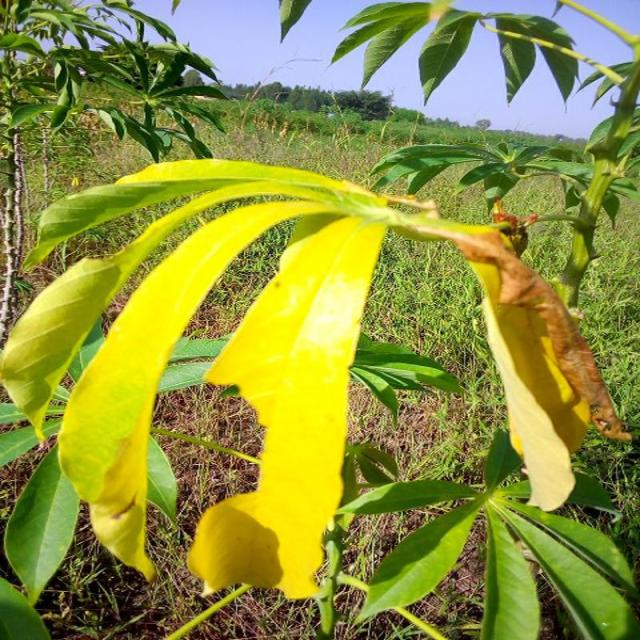cassava leaf: (2, 156, 632, 614)
